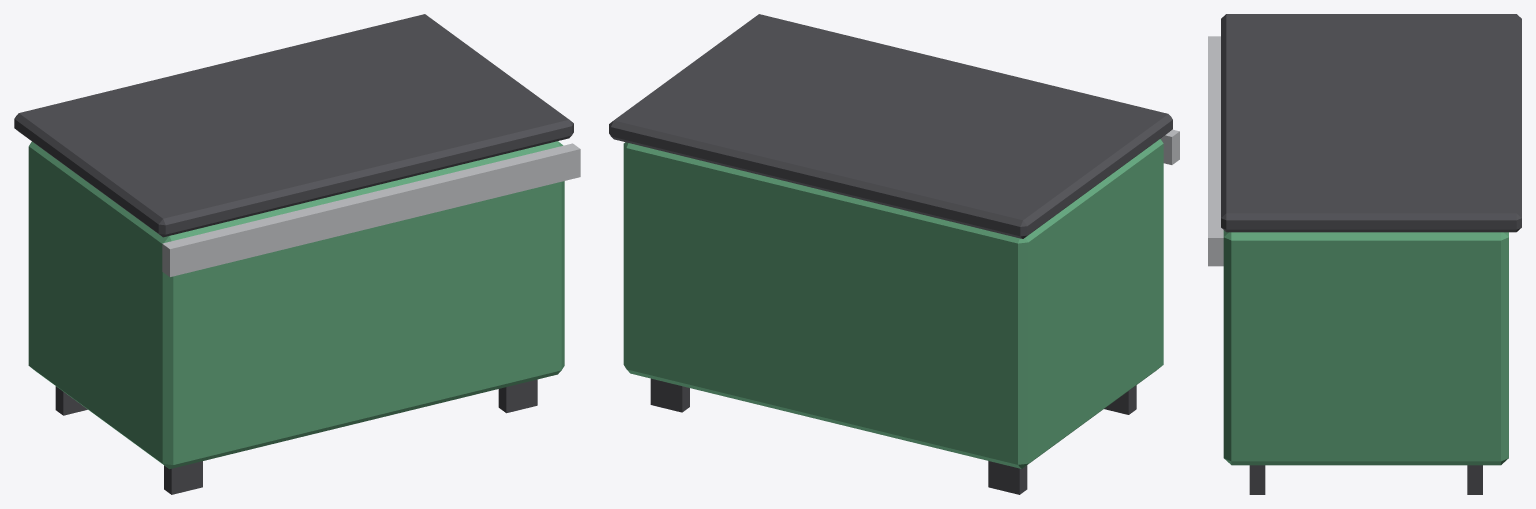
Rendered from dumpster.glb.
3 views of the same model, side by side, from view 1: azimuth 30°, elevation 25°; view 2: azimuth 150°, elevation 25°; view 3: azimuth 270°, elevation 25° (orthographic).
Parts seen in each view (by area): view 1: body, lid, rim, wheel.002, wheel; view 2: body, lid, wheel.001, wheel.003; view 3: body, lid, rim, wheel.002, wheel.003.
Boxes of the visible parts, x1,y1,x2,y2 form: body: [28, 141, 564, 469]; lid: [14, 14, 573, 237]; rim: [162, 143, 580, 276]; wheel.002: [498, 379, 537, 413]; wheel: [164, 461, 202, 494]; body: [623, 139, 1163, 468]; lid: [609, 14, 1172, 238]; wheel.001: [988, 461, 1027, 494]; wheel.003: [650, 378, 689, 412]; body: [1223, 230, 1508, 465]; lid: [1221, 14, 1521, 232]; rim: [1208, 36, 1223, 266]; wheel.002: [1249, 465, 1265, 494]; wheel.003: [1467, 465, 1482, 494].
Size of what is drawn, in the model's own units: 1.86 by 1.24 by 1.21.
